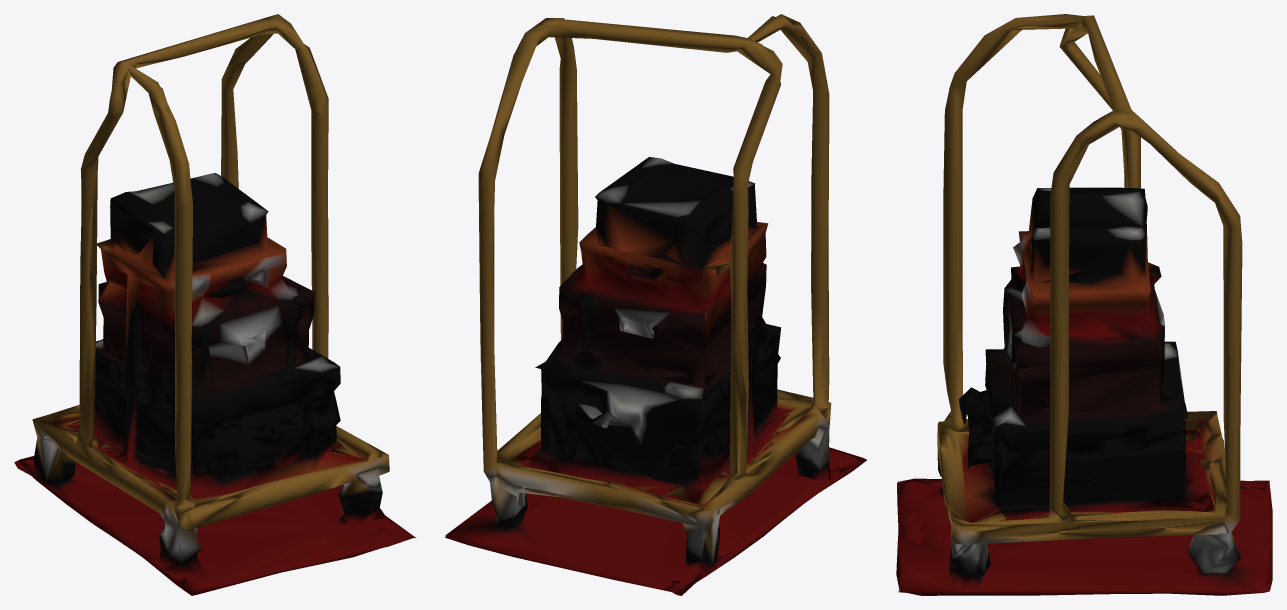
Rendered from gen3d-luggage-cart-lod0.glb.
3 renders of one model, left to right at view 1: azimuth 30°, elevation 25°; view 2: azimuth 150°, elevation 25°; view 3: azimuth 270°, elevation 25°, orthographic. The views are drawn at different scales.
Visible parts, largest first — view 1: part_0; view 2: part_0; view 3: part_0.
Part boxes in pixels (<box>): part_0: <box>14,14,416,595</box>; part_0: <box>445,14,866,595</box>; part_0: <box>896,14,1272,595</box>.
Bounding box in the file's own units: 0.5196 × 0.9954 × 0.7075.
